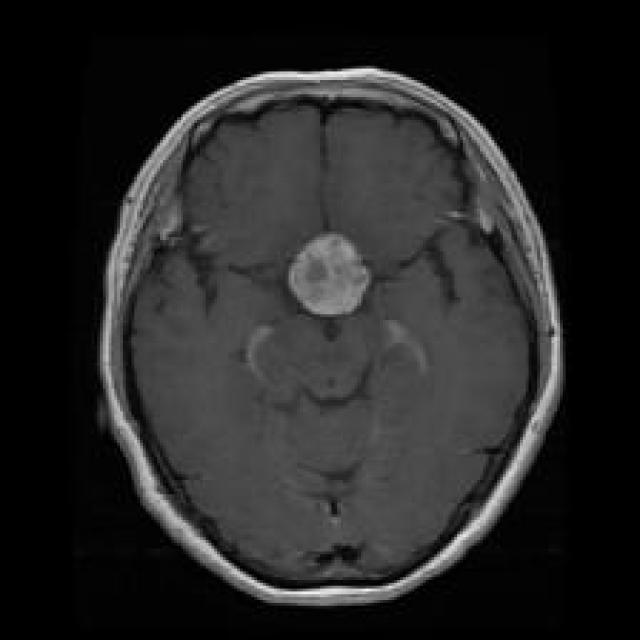pituitary_tumor: (279, 216, 382, 332)
